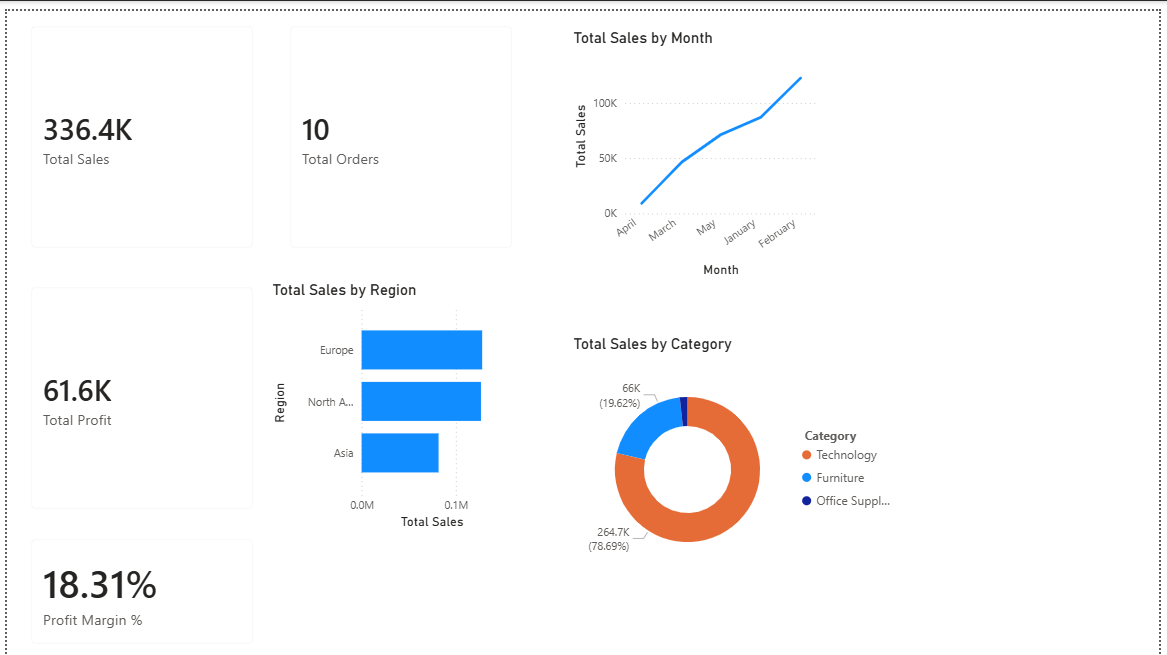

This screenshot's page, from the dashboard's own definition file:
{"tool":"powerbi","page":{"name":"Page 1","canvas":[1280,720],"ordinal":0},"visuals":[{"type":"cardVisual","fields":{"Data":["Sales.Total Sales"]},"box":[10,0,280,280],"z":0},{"type":"cardVisual","fields":{"Data":["Sales.Total Profit"]},"box":[10,290,280,280],"z":1000},{"type":"cardVisual","fields":{"Data":["Sales.Profit Margin %"]},"box":[10,570,280,150],"z":2000},{"type":"cardVisual","fields":{"Data":["Sales.Total Orders"]},"box":[297.8,0,280,280],"z":3000},{"type":"clusteredBarChart","fields":{"Category":["Sales. Region "],"Y":["Sales.Total Sales"]},"box":[290,300,280,280],"z":4000},{"type":"donutChart","fields":{"Category":["Sales. Category "],"Y":["Sales.Total Sales"]},"box":[624.4,360,372.2,280],"z":4002},{"type":"lineChart","fields":{"Category":["Sales. OrderDate .Variation.Date Hierarchy.Month"],"Y":["Sales.Total Sales"]},"box":[624.4,20,280,280],"z":4003}]}

Visuals, with their boxes in screenshot pixels (x1, y1, x2, y2), scaled from the page's 1280x720 canvas onto the 1167x655 screenshot:
cardVisual - Sales.Total Sales: bbox=[9, 0, 264, 255]
cardVisual - Sales.Total Profit: bbox=[9, 264, 264, 519]
cardVisual - Sales.Profit Margin %: bbox=[9, 519, 264, 654]
cardVisual - Sales.Total Orders: bbox=[272, 0, 527, 255]
clusteredBarChart - Sales. Region  x Sales.Total Sales: bbox=[264, 273, 520, 528]
donutChart - Sales. Category  x Sales.Total Sales: bbox=[569, 328, 909, 582]
lineChart - Sales. OrderDate .Variation.Date Hierarchy.Month x Sales.Total Sales: bbox=[569, 18, 825, 273]
